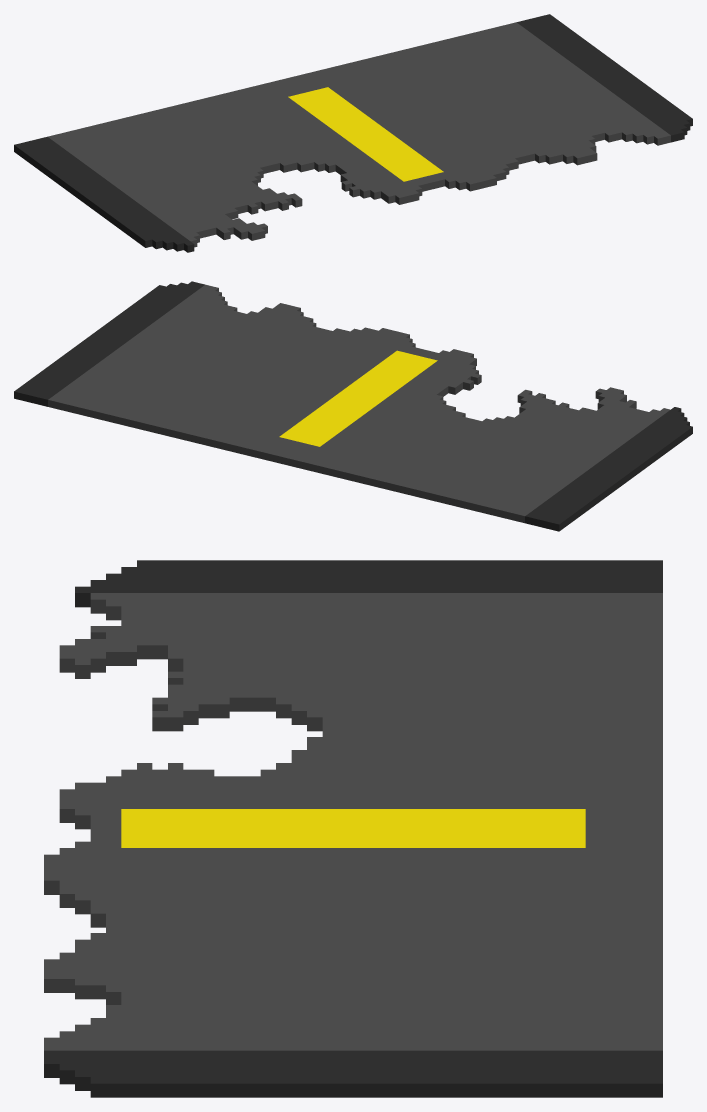
Rendered from road_part2.obj.
The picture shows the model from 3 angles, top to bottom: view 1: azimuth 30°, elevation 25°; view 2: azimuth 150°, elevation 25°; view 3: azimuth 270°, elevation 25°; orthographic projection. The views are drawn at different scales.
Bounding box in the file's own units: 8 × 0.1 × 4.
1 material, 1 textured.
